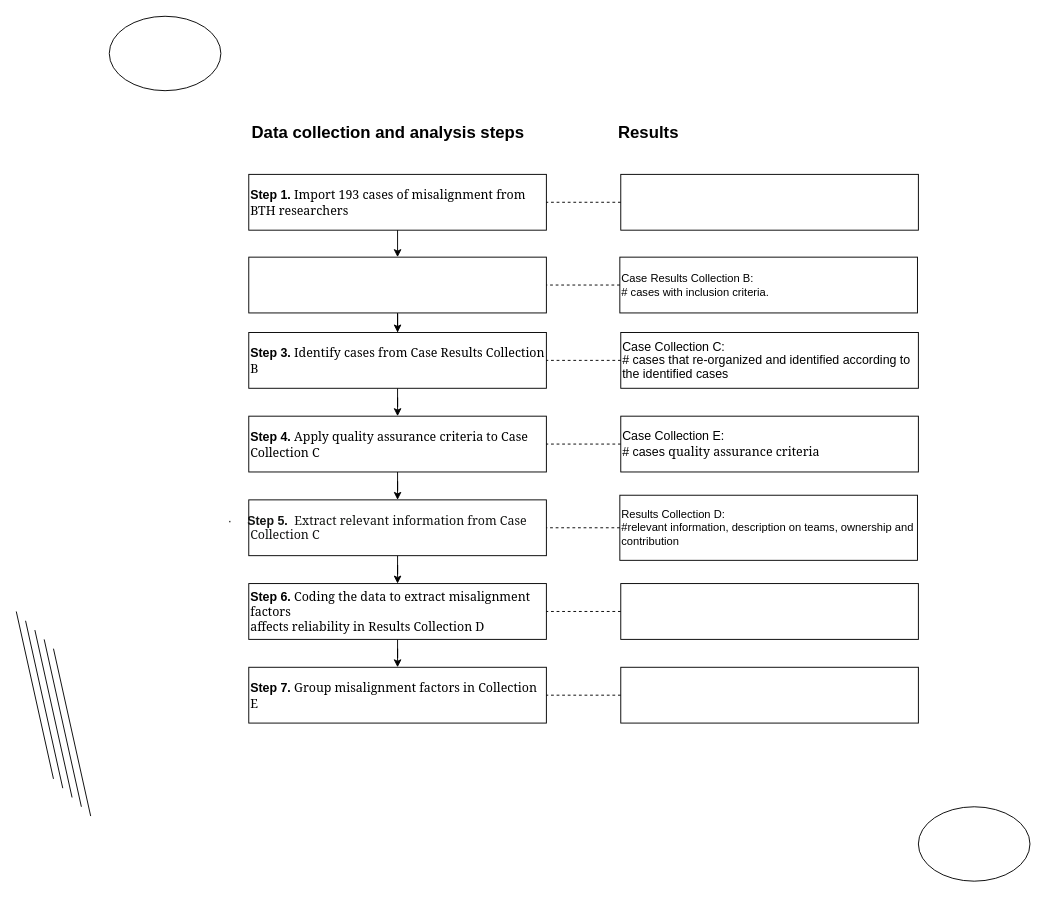
This 1046x897 diagram has some shape labels left out. The shapes that lost their labels are listed below. From the top down, each one's centre as x and y in pixels, then its label:
pixel 769 201: Results Collection A: 193 cases of misalignment from BTH researchers
pixel 397 284: Step 2. Apply inclusion/exclusion criteria to Results Collection A
pixel 769 611: Results Collection E: # misalignments factors affects system reliability
pixel 769 694: Results Collection F: # misalignments factors grouped into major categories
